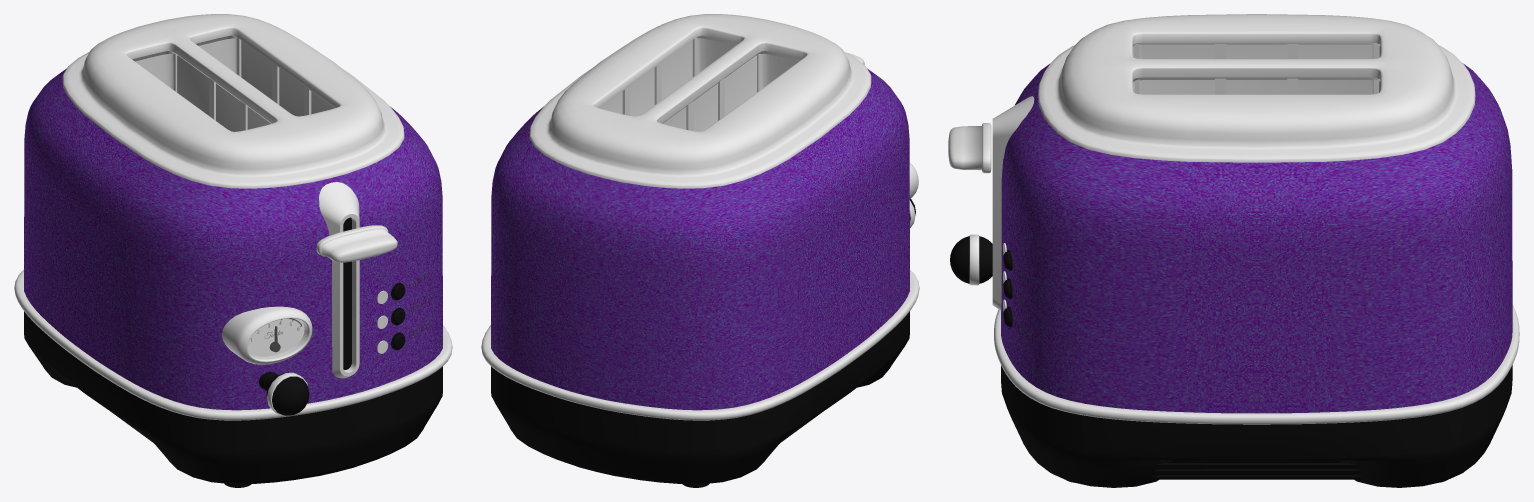
File: toasterM3.glb
3 views of the same model, side by side, from view 1: azimuth 30°, elevation 25°; view 2: azimuth 150°, elevation 25°; view 3: azimuth 270°, elevation 25° (orthographic). The views are drawn at different scales.
Parts seen in each view (by area): view 1: Cube, Cube.001, Cylinder, Cube.010, Cube.008, Cube.012, Sphere, Plane.001, Cylinder.002, Cube.006, Cube.004; view 2: Cube, Cube.001, Cube.006, Cube.004; view 3: Cube, Cube.001, Cube.013, Cylinder, Cube.008, Sphere, Cylinder.002.
Boxes of the visible parts, bbox=[...] form: Cube: bbox=[24, 14, 442, 484]; Cube.001: bbox=[14, 270, 452, 420]; Cylinder: bbox=[319, 182, 359, 378]; Cube.010: bbox=[222, 306, 312, 364]; Cube.008: bbox=[316, 225, 397, 262]; Cube.012: bbox=[248, 318, 307, 358]; Sphere: bbox=[259, 372, 309, 415]; Plane.001: bbox=[248, 318, 304, 356]; Cylinder.002: bbox=[377, 282, 405, 353]; Cube.006: bbox=[272, 63, 311, 115]; Cube.004: bbox=[209, 78, 247, 130]; Cube: bbox=[491, 14, 909, 484]; Cube.001: bbox=[481, 270, 919, 420]; Cube.006: bbox=[622, 63, 661, 115]; Cube.004: bbox=[686, 78, 724, 130]; Cube: bbox=[1001, 14, 1512, 487]; Cube.001: bbox=[994, 305, 1519, 424]; Cube.013: bbox=[1151, 460, 1361, 479]; Cylinder: bbox=[992, 96, 1034, 310]; Cube.008: bbox=[948, 123, 991, 173]; Sphere: bbox=[950, 234, 992, 285]; Cylinder.002: bbox=[1003, 243, 1012, 327].
Size of the model in its own units: 2.79 by 2.79 by 3.87.
6 materials, 2 textured.
